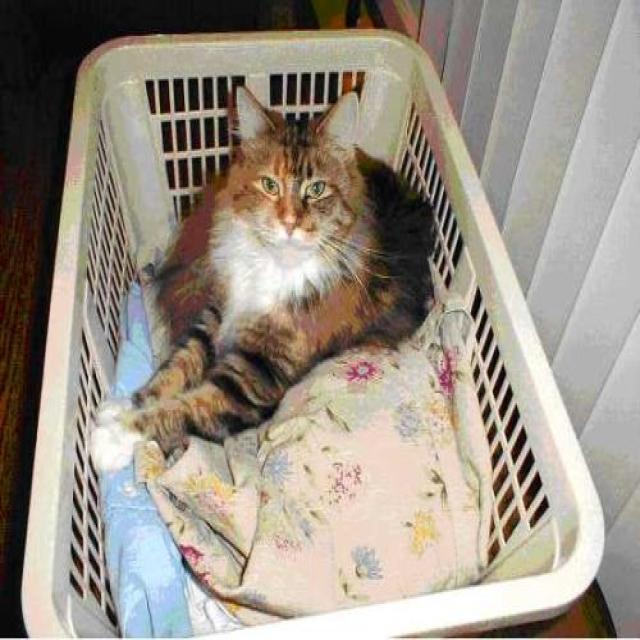Cats: (90, 82, 438, 474)
